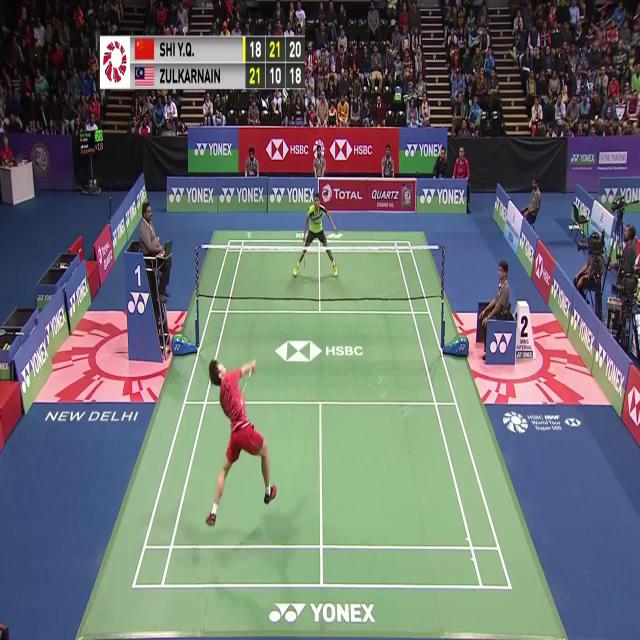Shuttlecock: (247, 229, 253, 240)
